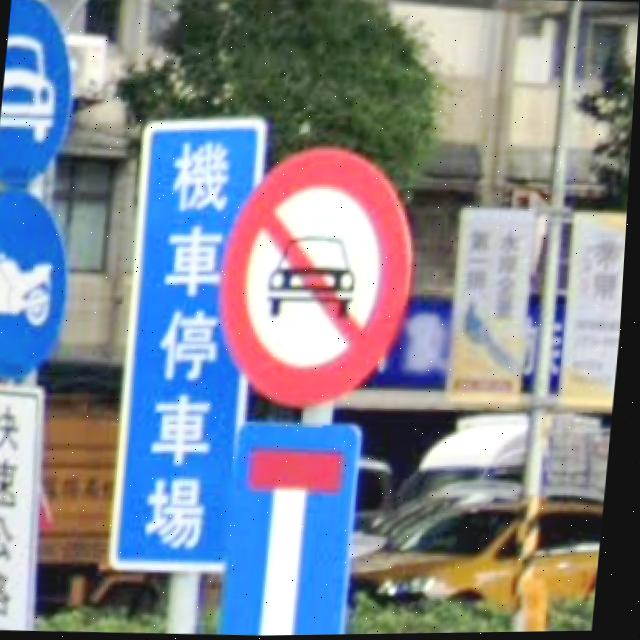nocar: (223, 149, 415, 410)
